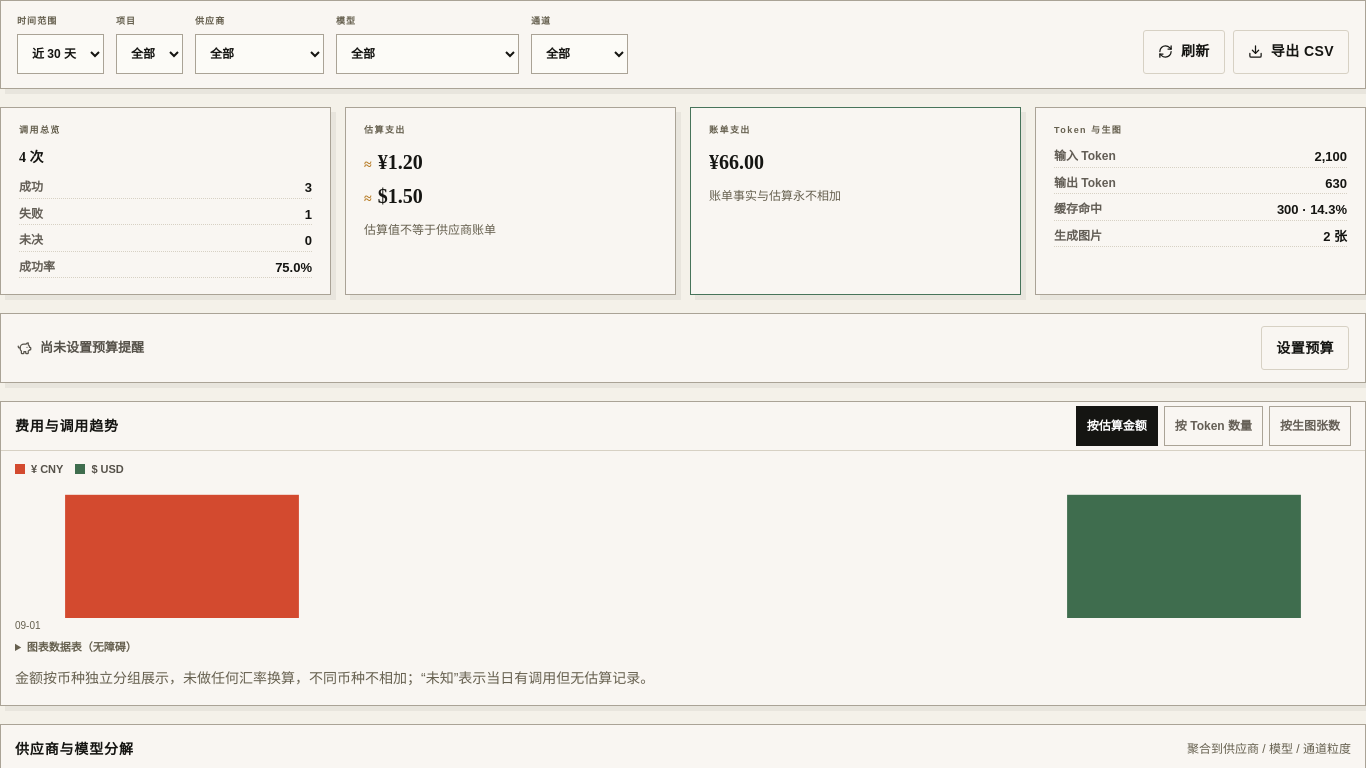
Test case: UsageDashboard cost semantics › 自定义范围结束早于开始时可见拒绝，而不是静默查询空窗口
Expected: the list item "¥66.00" is shown, [709,151,764,173]
Select "自定义" in the dropdown named "选择用量统计时间范围" at {"x": 60, "y": 54}, box [17,34,104,74]
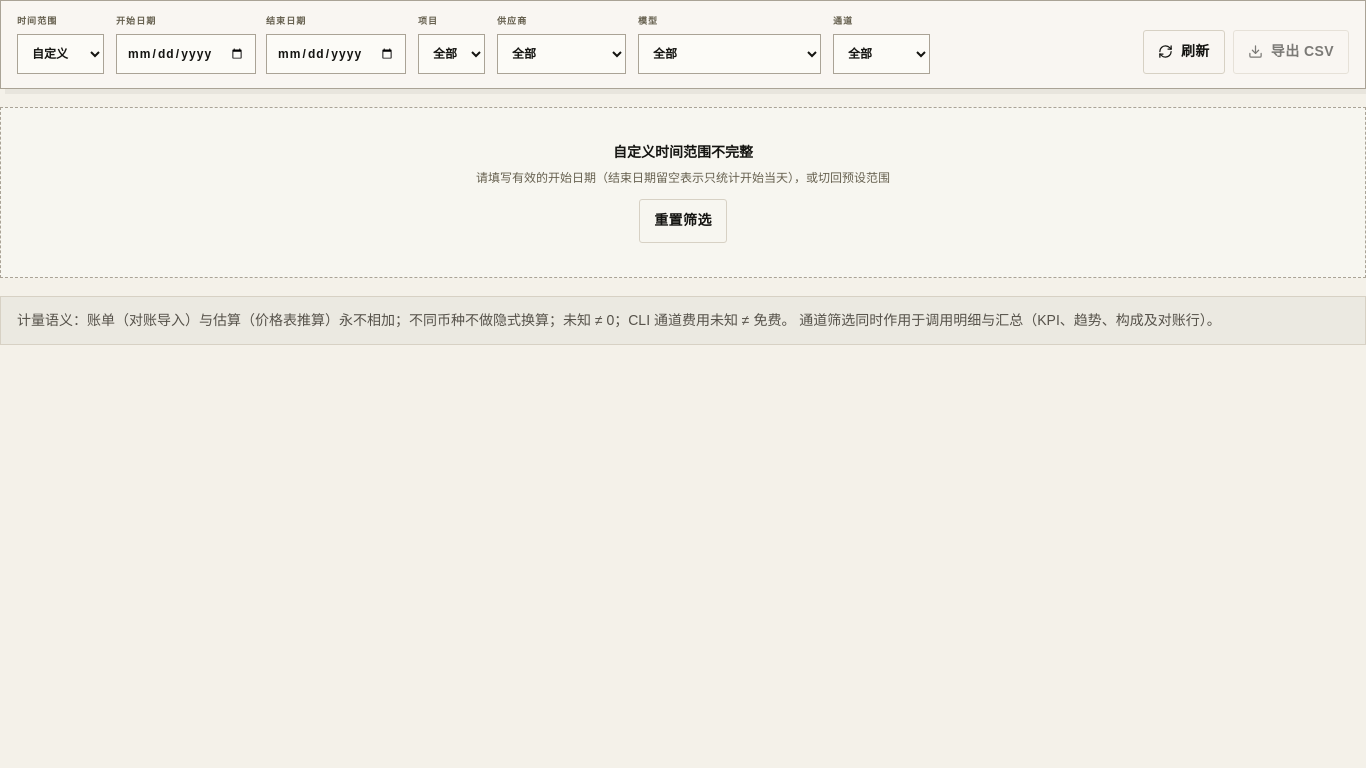
Type "2026-09-01" into the date field named "自定义开始日期" at {"x": 186, "y": 54}, box [116,34,256,74]
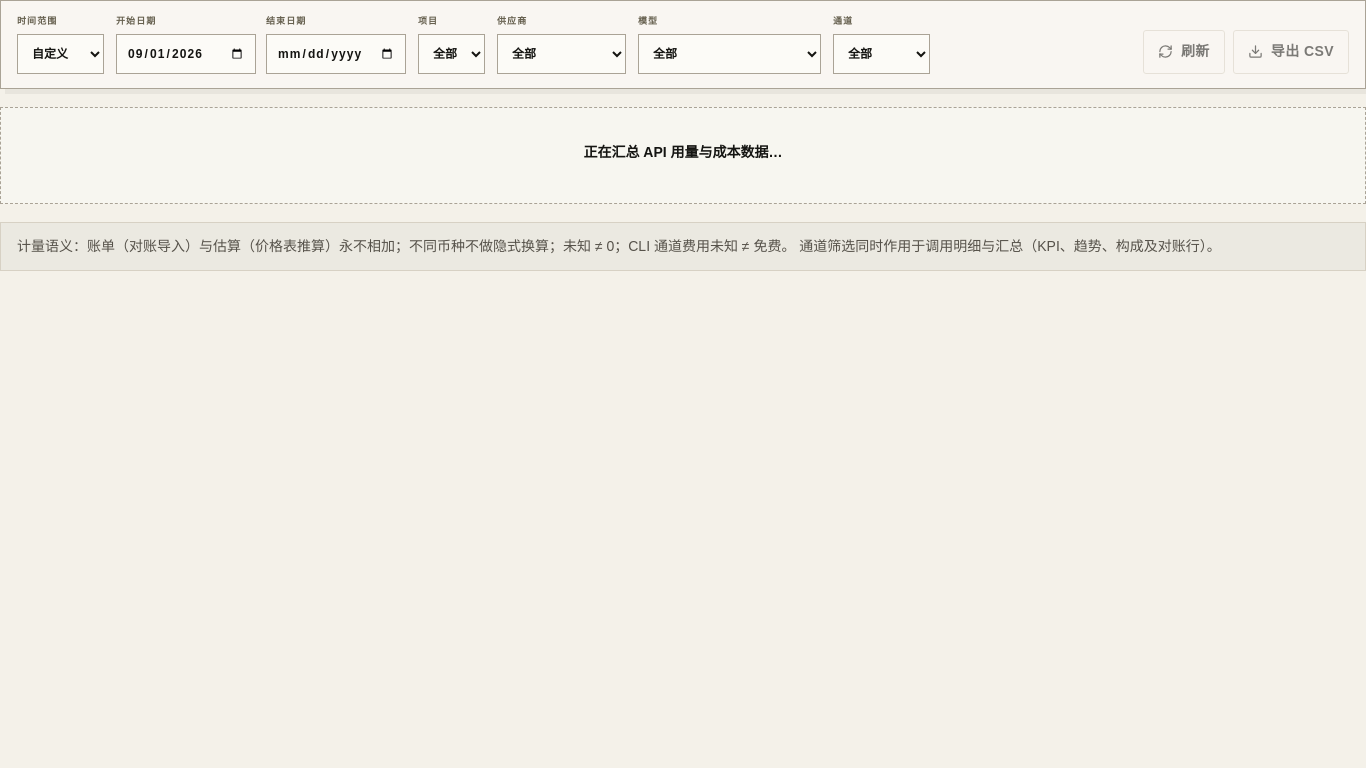
// 结束早于开始：倒置区间会查到空窗并显示成「没有调用」，必须拒绝。
Type "2026-08-01" into the date field named "自定义结束日期" at {"x": 336, "y": 54}, box [266,34,406,74]
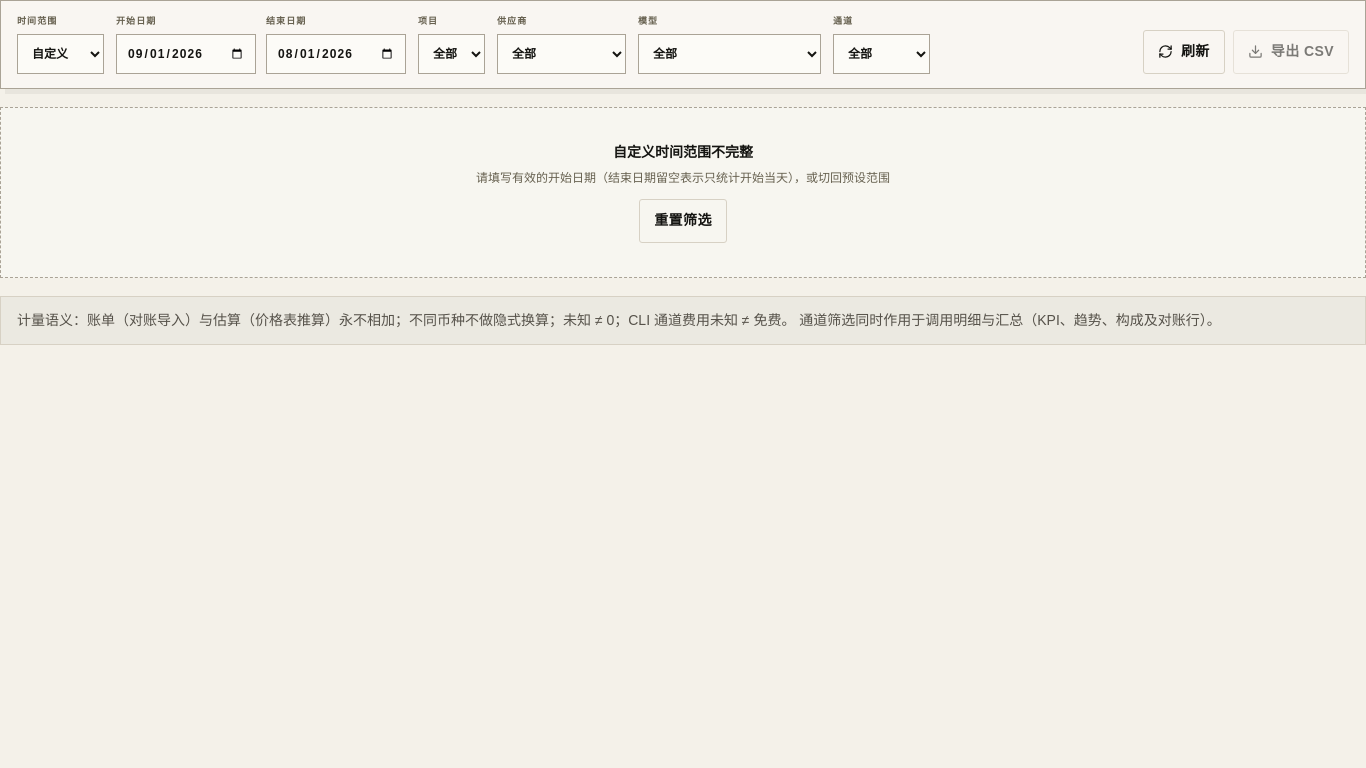
Expected: the list item "¥66.00" is not shown
Expected: the text "自定义时间范围不完整" is shown, [613,144,753,160]
//  合法区间恢复。
Type "2026-09-30" into the date field named "自定义结束日期" at {"x": 336, "y": 54}, box [266,34,406,74]
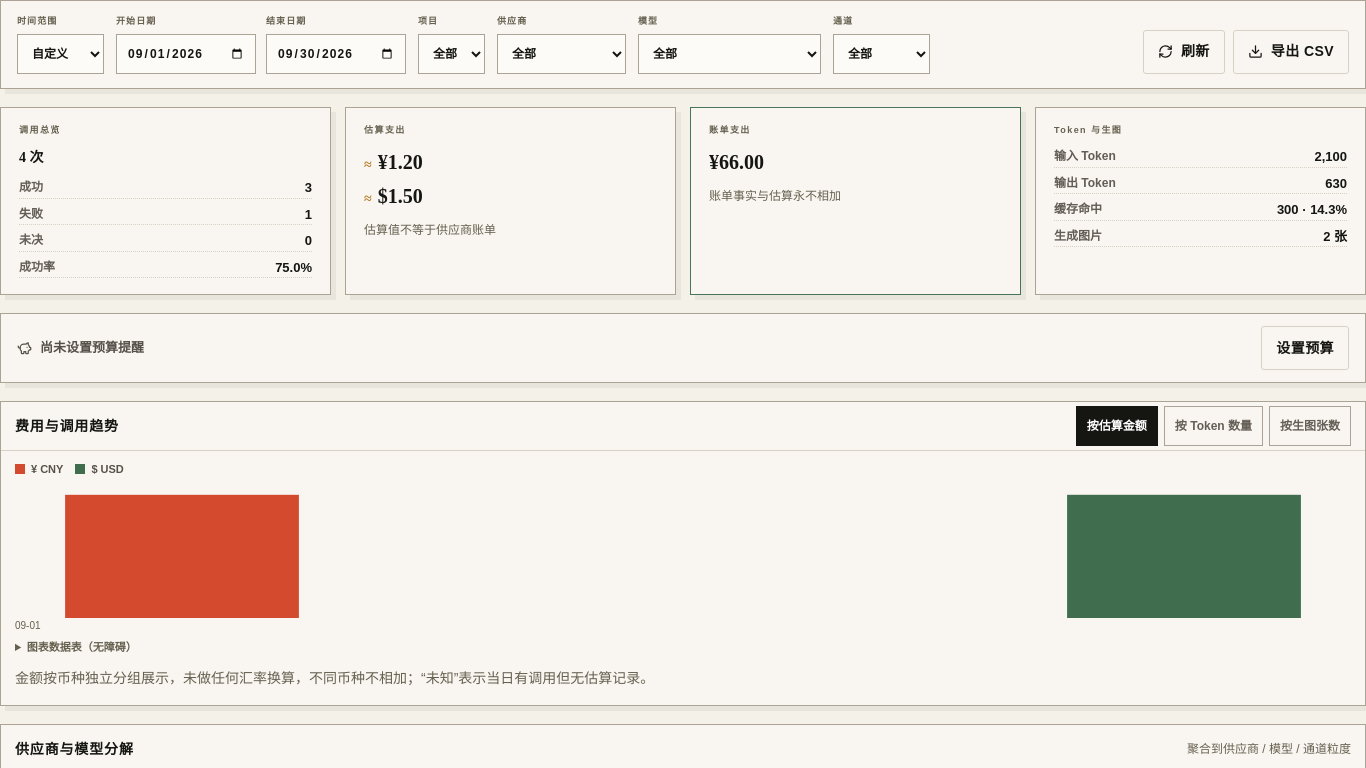
Expected: the list item "¥66.00" is shown, [709,151,764,173]
Expected: the text "自定义时间范围不完整" is gone
